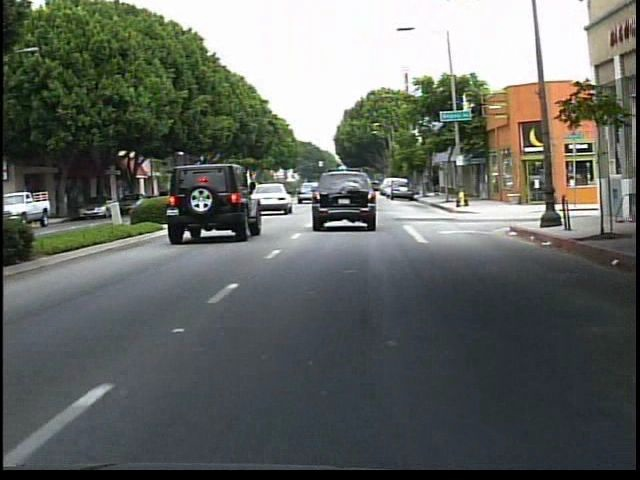person: (426, 166, 447, 202)
